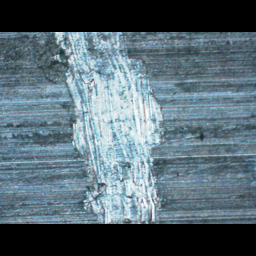d: (44, 32, 170, 223)
